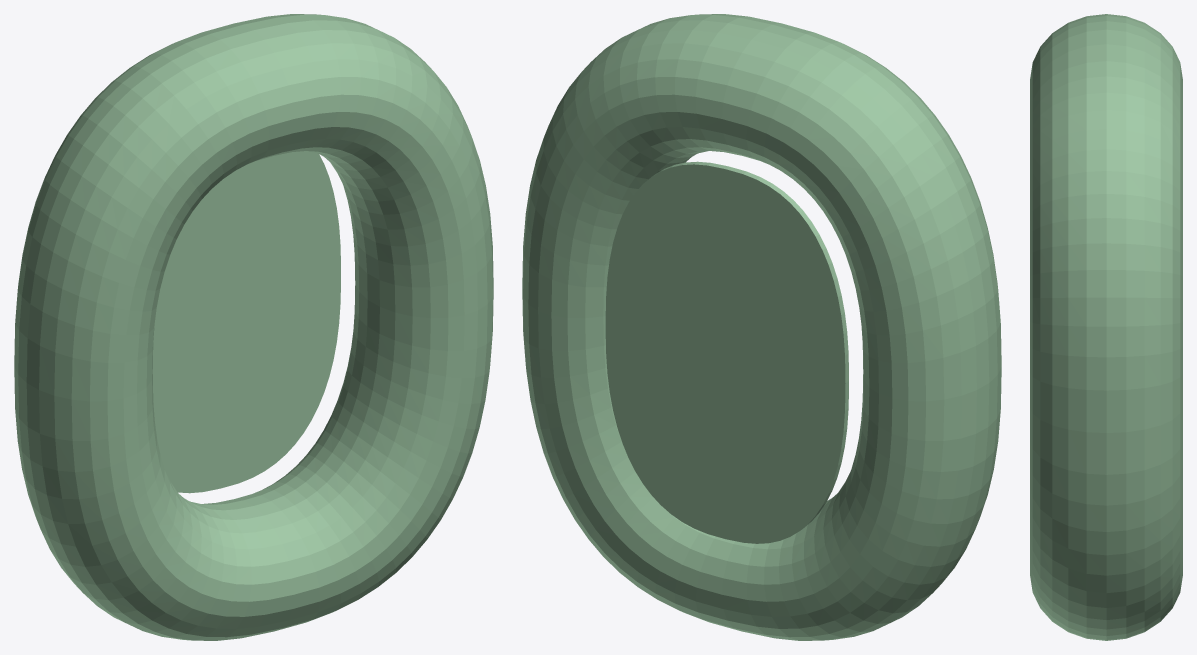
The picture shows the model from 3 angles, left to right: view 1: azimuth 30°, elevation 25°; view 2: azimuth 150°, elevation 25°; view 3: azimuth 270°, elevation 25°; orthographic projection. The views are drawn at different scales.
Parts seen in each view (by area): view 1: geometry_0; view 2: geometry_0; view 3: geometry_0.
Boxes of the visible parts, bbox=[...] form: geometry_0: bbox=[14, 14, 493, 640]; geometry_0: bbox=[522, 14, 1001, 640]; geometry_0: bbox=[1030, 14, 1182, 640].
Bounding box in the file's own units: 72 × 90 × 22.
